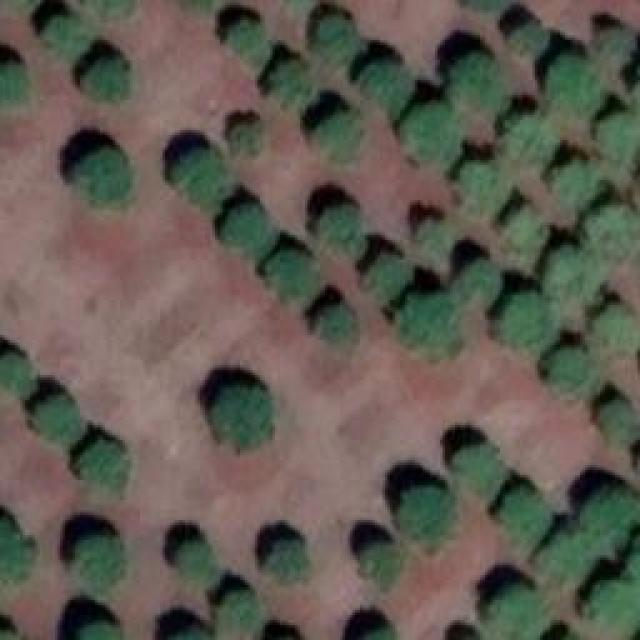Tree: (215, 385, 273, 448), (580, 483, 640, 543), (395, 295, 458, 348), (75, 145, 133, 200), (545, 52, 600, 110), (400, 103, 460, 156), (402, 488, 450, 553), (498, 487, 551, 545), (173, 150, 226, 203), (450, 53, 503, 106), (488, 585, 541, 638), (358, 63, 411, 113), (267, 250, 315, 298), (503, 113, 556, 156), (77, 538, 125, 583), (80, 437, 125, 485), (455, 442, 500, 490), (545, 245, 595, 288), (457, 160, 505, 203), (500, 293, 545, 338), (33, 395, 78, 440), (543, 530, 588, 575), (0, 519, 32, 582), (450, 258, 500, 298), (585, 205, 635, 245), (215, 588, 258, 631), (593, 583, 636, 623), (315, 112, 360, 150), (227, 15, 265, 58), (600, 110, 638, 153), (320, 15, 358, 55), (225, 207, 265, 245), (267, 540, 305, 580), (85, 60, 128, 95), (323, 205, 358, 248), (553, 163, 596, 198), (548, 350, 593, 383), (365, 543, 398, 588), (268, 58, 303, 98), (370, 255, 408, 290), (508, 205, 541, 243), (508, 20, 548, 50), (68, 620, 128, 640), (178, 543, 213, 576), (595, 305, 633, 335), (603, 400, 633, 438), (0, 350, 30, 388), (320, 305, 350, 340), (228, 120, 261, 148), (0, 62, 22, 95), (48, 15, 73, 43), (355, 623, 392, 640), (418, 218, 443, 241), (603, 25, 628, 45)
